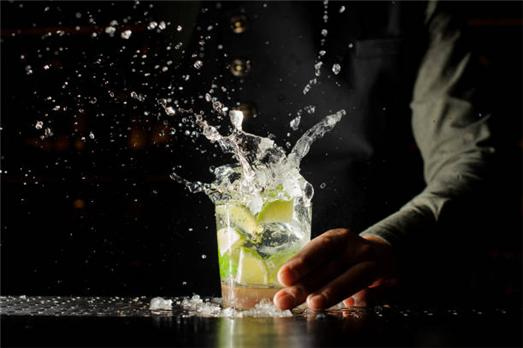alcohol: (217, 178, 314, 313)
